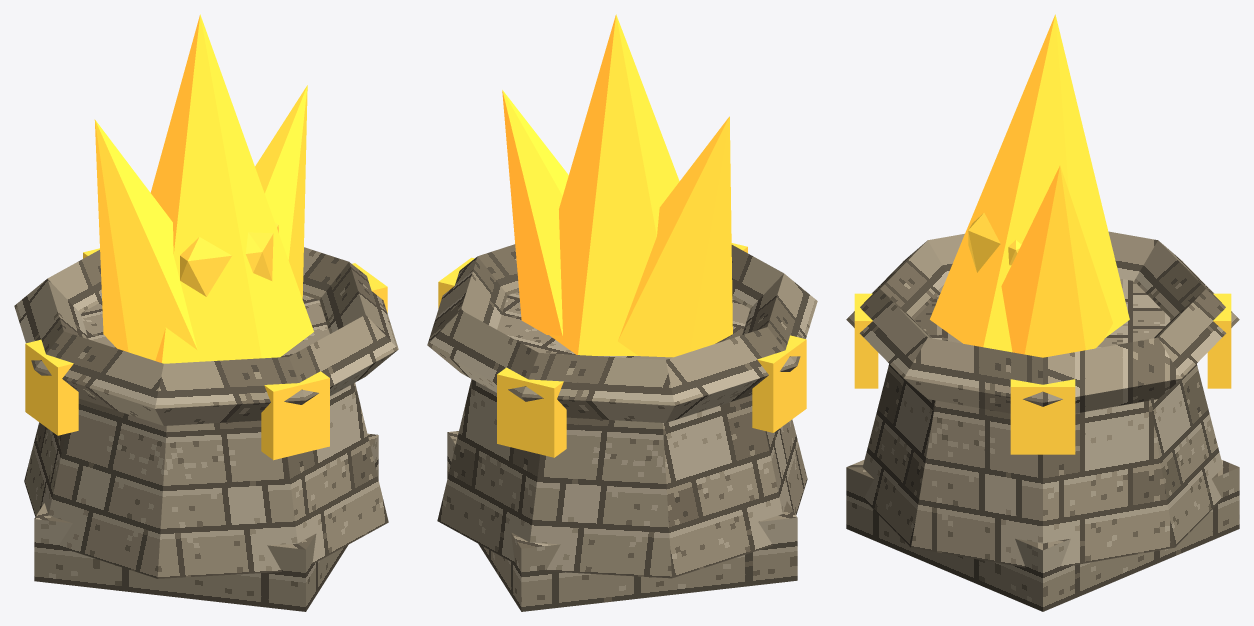
Rendered from sacred_flame_t1.glb.
3 renders of one model, left to right at view 1: azimuth 30°, elevation 25°; view 2: azimuth 150°, elevation 25°; view 3: azimuth 270°, elevation 25°, orthographic. The views are drawn at different scales.
Parts seen in each view (by area): view 1: brazier, rim, flame_centre, flame_left, plinth, flame_right, sacred_mark_0, sacred_mark_3, golden_heart; view 2: brazier, rim, flame_centre, flame_left, plinth, flame_right, sacred_mark_2, sacred_mark_3; view 3: brazier, rim, flame_centre, plinth, flame_right, sacred_mark_1, sacred_mark_0, sacred_mark_2, golden_heart.
Part boxes in pixels (x1=…): brazier: x1=24, y1=295, x2=388, y2=578; rim: x1=14, y1=247, x2=398, y2=425; flame_centre: x1=150, y1=14, x2=313, y2=363; flame_left: x1=94, y1=119, x2=197, y2=360; plinth: x1=34, y1=433, x2=378, y2=611; flame_right: x1=255, y1=85, x2=307, y2=298; sacred_mark_0: x1=261, y1=371, x2=329, y2=460; sacred_mark_3: x1=25, y1=339, x2=78, y2=435; golden_heart: x1=180, y1=222, x2=278, y2=296; brazier: x1=437, y1=291, x2=807, y2=578; rim: x1=427, y1=244, x2=817, y2=422; flame_centre: x1=550, y1=14, x2=679, y2=355; flame_left: x1=618, y1=116, x2=732, y2=357; plinth: x1=447, y1=431, x2=797, y2=611; flame_right: x1=502, y1=90, x2=568, y2=335; sacred_mark_2: x1=497, y1=367, x2=566, y2=457; sacred_mark_3: x1=752, y1=335, x2=806, y2=432; brazier: x1=862, y1=278, x2=1223, y2=567; rim: x1=846, y1=231, x2=1239, y2=413; flame_centre: x1=930, y1=14, x2=1129, y2=352; plinth: x1=846, y1=459, x2=1239, y2=611; flame_right: x1=1001, y1=165, x2=1112, y2=357; sacred_mark_1: x1=1010, y1=379, x2=1075, y2=454; sacred_mark_0: x1=854, y1=293, x2=878, y2=388; sacred_mark_2: x1=1207, y1=293, x2=1231, y2=388; golden_heart: x1=968, y1=213, x2=1021, y2=272.
Size of what is drawn, in the model's own units: 1.16 by 1.67 by 1.16.
3 materials, 1 textured.
